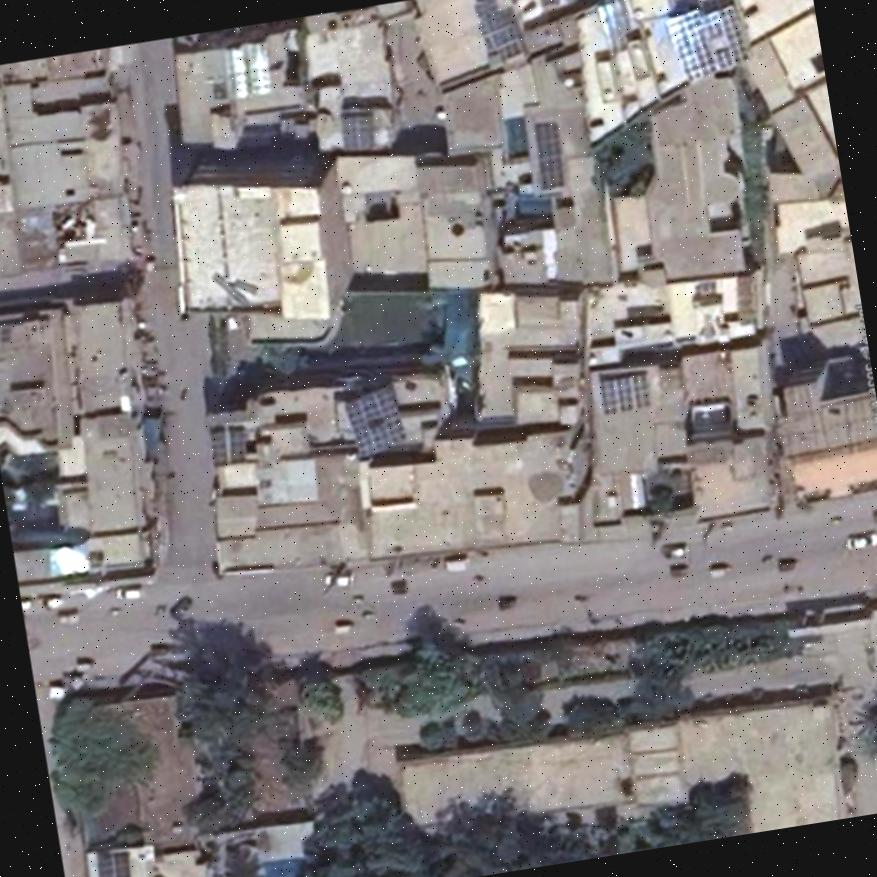Solarpanel: (664, 0, 749, 82), (345, 382, 404, 459), (597, 376, 651, 413), (534, 120, 560, 187), (209, 424, 243, 464), (341, 116, 371, 150), (99, 853, 128, 877)
